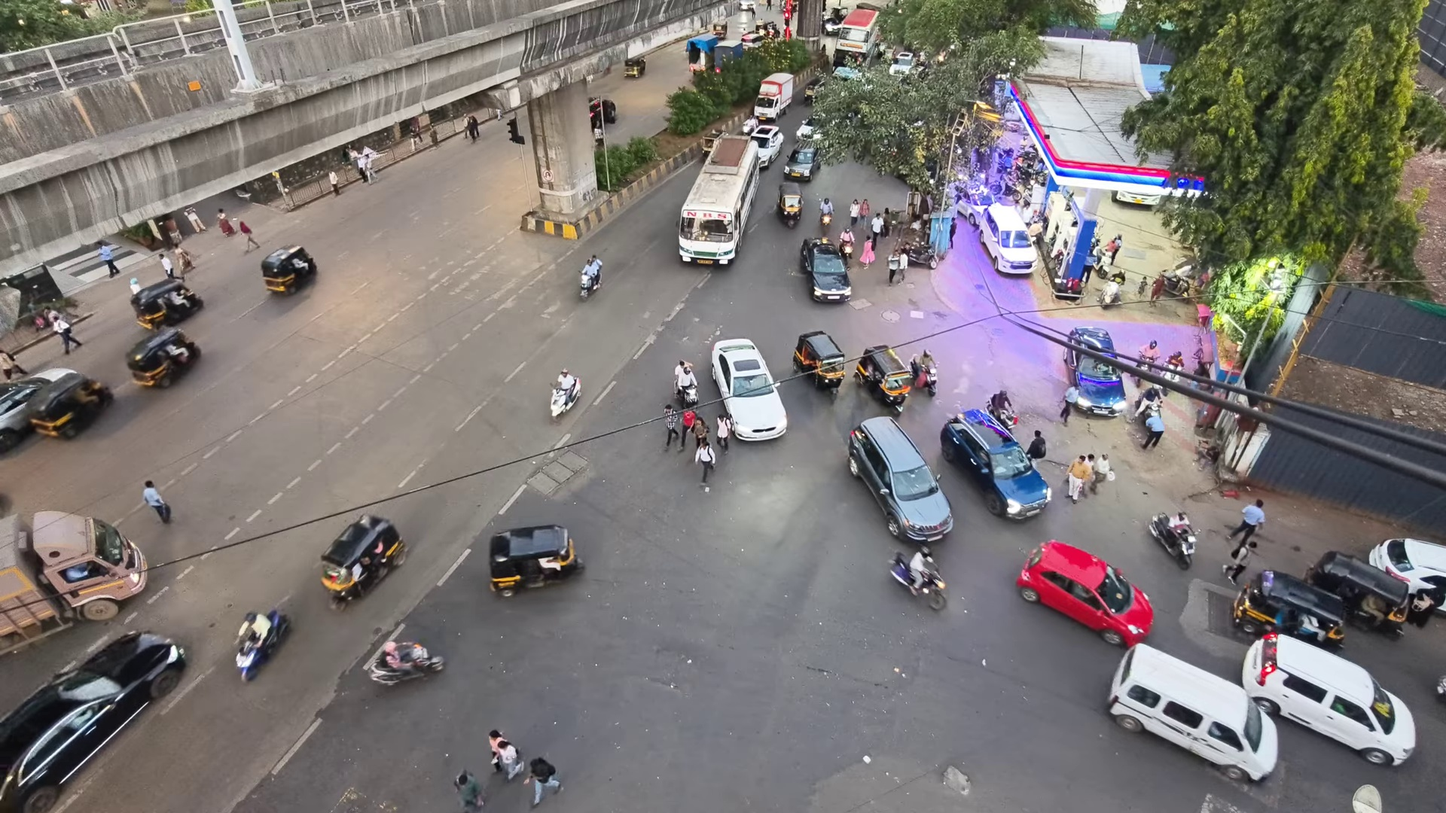driving: (0, 632, 185, 812), (0, 511, 146, 651), (1016, 540, 1152, 645), (848, 416, 953, 543), (940, 410, 1051, 519), (679, 135, 760, 264), (321, 514, 405, 608), (710, 339, 787, 440), (488, 525, 582, 596), (0, 368, 75, 452), (29, 368, 114, 439), (1064, 327, 1127, 416), (1367, 539, 1445, 595), (855, 345, 914, 412), (235, 609, 288, 681), (793, 331, 847, 397), (368, 641, 444, 685), (890, 553, 946, 610), (801, 238, 851, 301), (1148, 512, 1196, 569), (835, 8, 880, 62), (754, 73, 793, 120), (749, 124, 783, 169), (784, 142, 821, 180), (549, 376, 580, 419), (777, 182, 802, 228), (795, 116, 816, 141)
walking: (524, 757, 562, 806), (489, 729, 523, 781), (1222, 541, 1256, 584), (1228, 500, 1264, 540), (52, 313, 82, 354), (454, 770, 483, 812), (143, 480, 171, 523), (1066, 455, 1091, 501), (1088, 454, 1112, 493), (695, 440, 716, 483), (663, 403, 682, 450), (0, 350, 28, 380), (96, 242, 119, 278), (1142, 412, 1164, 449), (1060, 384, 1078, 425), (238, 221, 260, 251), (173, 247, 194, 278), (888, 249, 906, 285), (360, 146, 378, 181), (184, 206, 206, 233), (716, 413, 731, 452), (1027, 431, 1046, 460), (692, 416, 708, 449), (860, 236, 876, 267), (1149, 273, 1164, 306), (1106, 235, 1121, 266), (218, 209, 234, 236), (158, 252, 174, 278), (465, 114, 479, 142), (870, 214, 883, 242), (682, 410, 697, 433), (849, 199, 860, 227), (328, 170, 340, 195), (882, 208, 892, 238), (949, 218, 958, 248), (859, 199, 870, 219), (130, 278, 141, 294)
